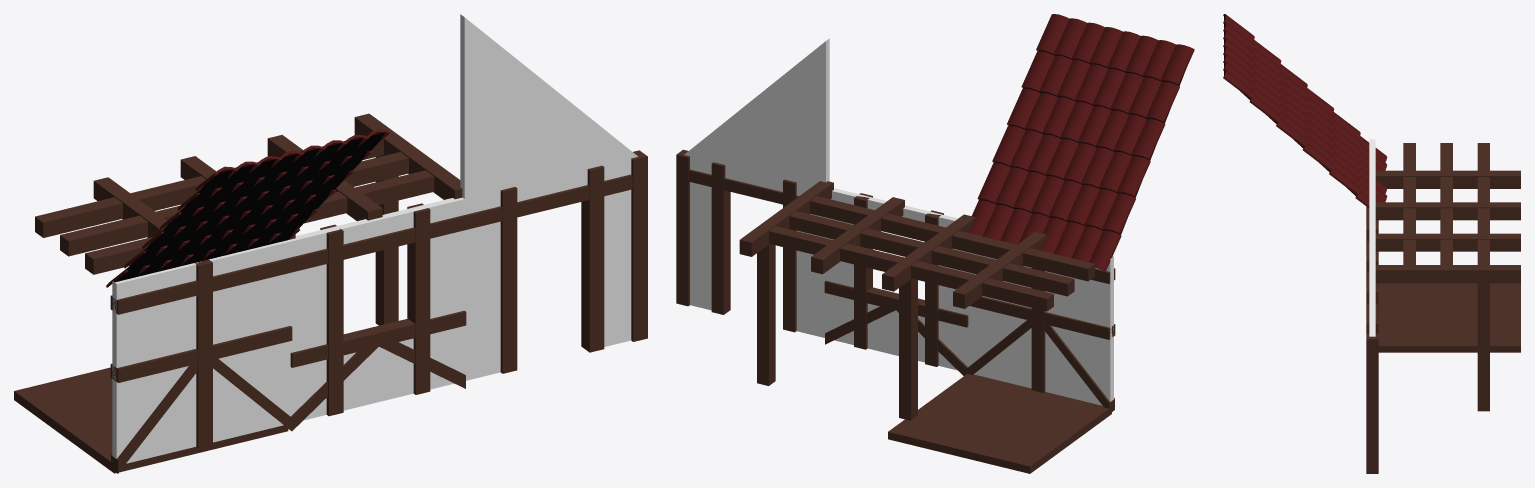
The model's file is HousePieces.fbx.
3 renders of one model, left to right at view 1: azimuth 30°, elevation 25°; view 2: azimuth 150°, elevation 25°; view 3: azimuth 270°, elevation 25°, orthographic. The views are drawn at different scales.
Visible parts, largest first — view 1: Cube.007, Cube.001, Cube.013, Awning, Cube.011, Cube.012, Cube.006, Cube.009; view 2: Cube.012, Awning, Cube.007, Cube.006, Cube.013, Cube.011, Cube.001, Cube.009; view 3: Awning, Cube.012, Cube.006, Cube.009, Cube.011, Cube.013, Cube.001.
Boxes of the visible parts, box(x1,y1,x2,y2) form: Cube.007: box(110, 240, 292, 473); Cube.001: box(289, 197, 466, 430); Cube.013: box(464, 158, 632, 380); Awning: box(35, 113, 462, 325); Cube.011: box(460, 14, 637, 198); Cube.012: box(106, 129, 389, 287); Cube.006: box(14, 367, 288, 473); Cube.009: box(631, 150, 647, 341); Cube.012: box(969, 14, 1194, 271); Awning: box(739, 181, 1094, 420); Cube.007: box(967, 252, 1115, 413); Cube.006: box(888, 374, 1111, 473); Cube.013: box(688, 156, 825, 337); Cube.011: box(684, 38, 829, 186); Cube.001: box(824, 188, 968, 375); Cube.009: box(676, 149, 689, 306); Awning: box(1375, 143, 1520, 411); Cube.012: box(1223, 14, 1387, 208); Cube.006: box(1378, 283, 1520, 352); Cube.009: box(1366, 334, 1378, 473); Cube.011: box(1369, 139, 1375, 336); Cube.013: box(1366, 285, 1378, 333); Cube.001: box(1366, 223, 1378, 286).
Bounding box in the file's own units: 30.42 × 20.68 × 20.07.
